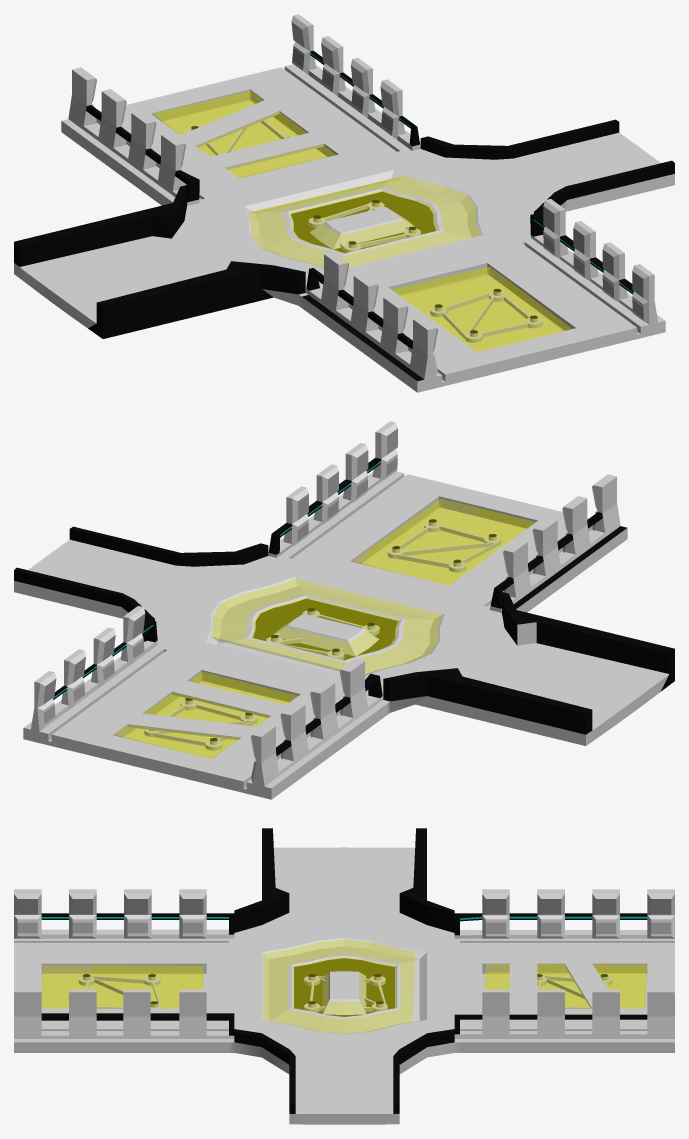
File: Middle_Zone_Model2.fbx
3 views of the same model, one above another, from view 1: azimuth 30°, elevation 25°; view 2: azimuth 150°, elevation 25°; view 3: azimuth 270°, elevation 25° (orthographic). The views are drawn at different scales.
Visible parts, largest first — view 1: middle_map_model1; view 2: middle_map_model1; view 3: middle_map_model1.
Boxes of the visible parts, x1,y1,x2,y2 form: middle_map_model1: (14, 14, 674, 392); middle_map_model1: (14, 421, 674, 799); middle_map_model1: (14, 828, 674, 1124).
Bounding box in the file's own units: 0.7846 × 0.0766 × 0.8222.
